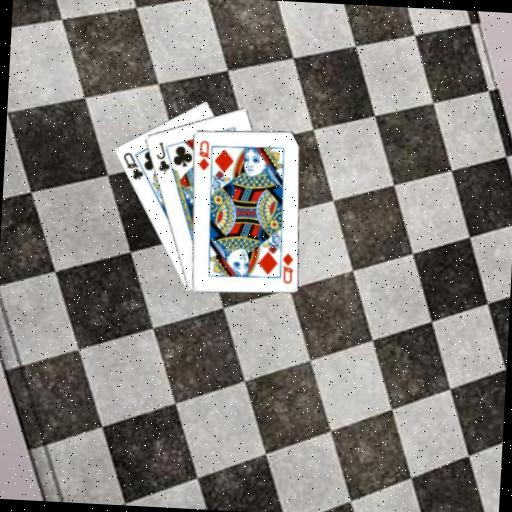JC: (152, 138, 172, 174)
QC: (119, 149, 146, 182)
QD: (279, 249, 296, 285), (195, 137, 212, 172)
